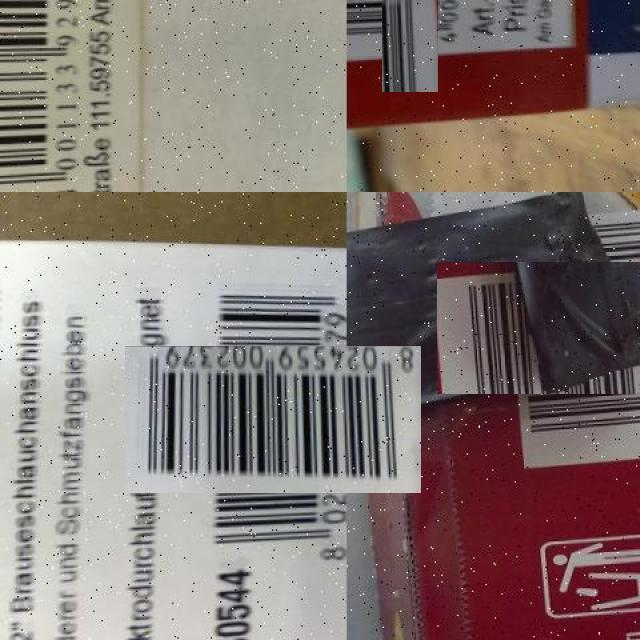Barcode: (163, 308, 384, 531), (472, 226, 640, 429), (0, 0, 91, 192), (365, 0, 457, 74)
